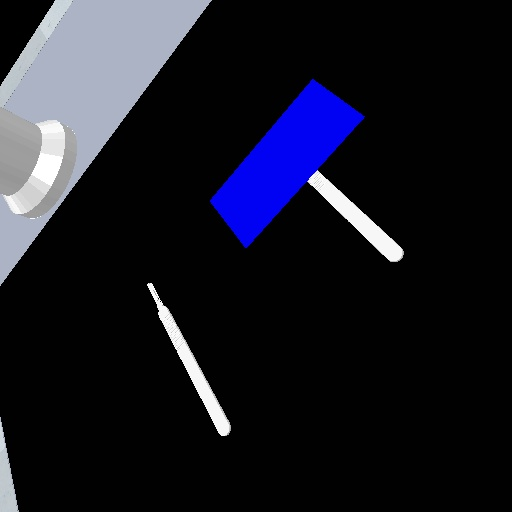bisturi: (140, 280, 237, 440), (305, 167, 408, 266)
